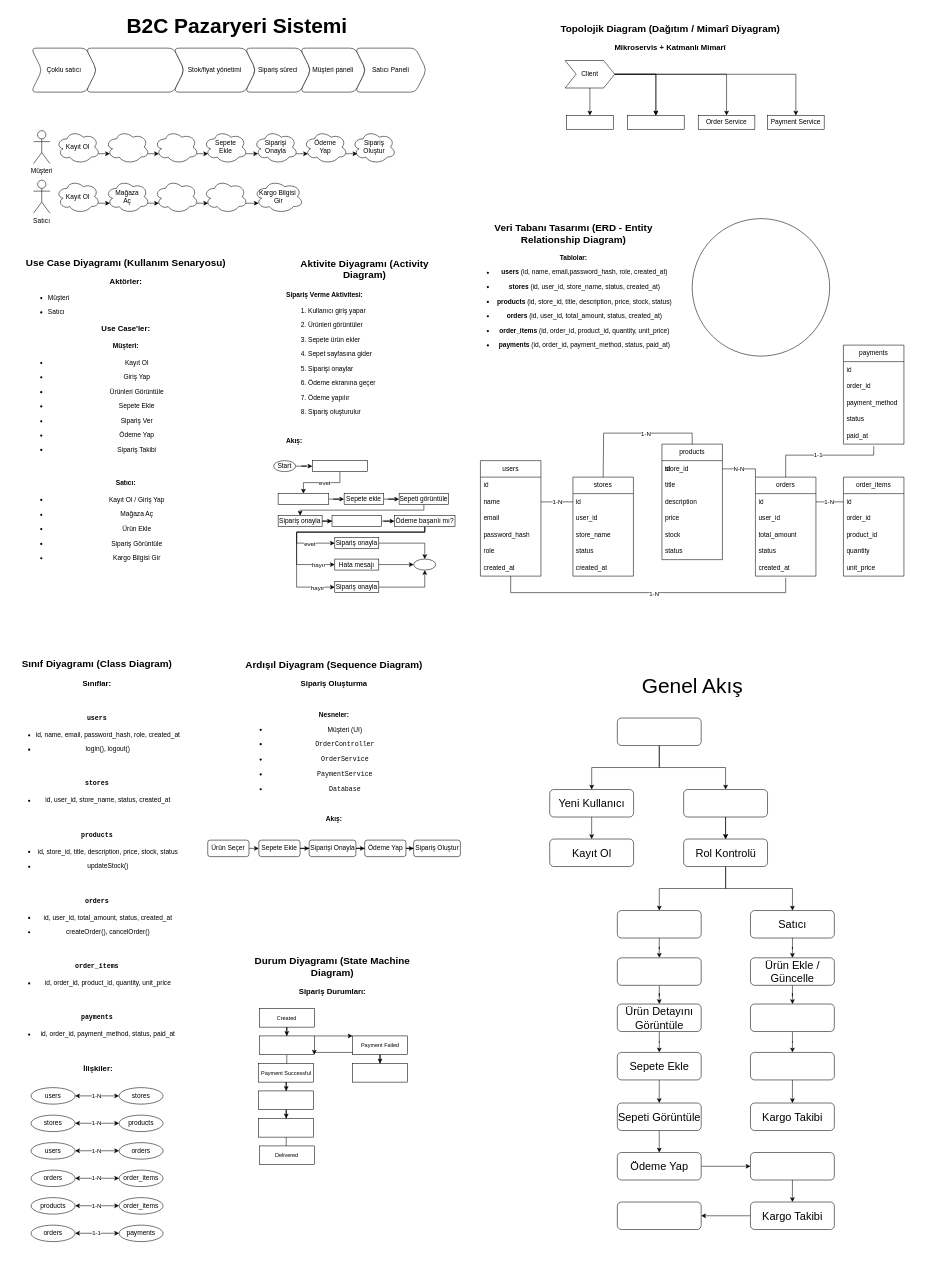
This 928x1273 diagram has some shape labels left out. The centre of each missing label's shape, as x and y in pixels:
"Alıcı" belongs at point (659, 924).
"Auth Service" belongs at point (589, 122).
"Awaiting Payment" belongs at point (286, 1045).
"Canceled" belongs at point (380, 1072).
"End" belongs at point (424, 564).
"Giriş Yap" belongs at point (127, 147).
"Giriş Yapıldı" belongs at point (725, 803).
"Giriş yapıldı mı?" belongs at point (339, 466).
"Kullanıcı Girişi" belongs at point (659, 731).
"Preparing Shipment" belongs at point (286, 1100).
"Product Service" belongs at point (655, 122).
"Sepete Takibi" belongs at point (225, 196).
"Shipped" belongs at point (286, 1127).
"Sipariş Oluşturuldu" belongs at point (792, 1166).
"Siparişi Hazırla" belongs at point (792, 1066).
"Siparişleri Görüntüle" belongs at point (792, 1017).
"Teslimat & Yorum" belongs at point (659, 1215).
"VeriTabanı" belongs at point (761, 287).
"Ödeme Ekranı" belongs at point (356, 521).
"Ürün Ekle" belongs at point (176, 196).
"Ürün ekleme/güncelleme" belongs at point (135, 70).
"Ürün görüntüle" belongs at point (303, 499).
"Ürünleri Görüntüle" belongs at point (176, 147).
"Ürünleri Listele & Ara" belongs at point (659, 971).
